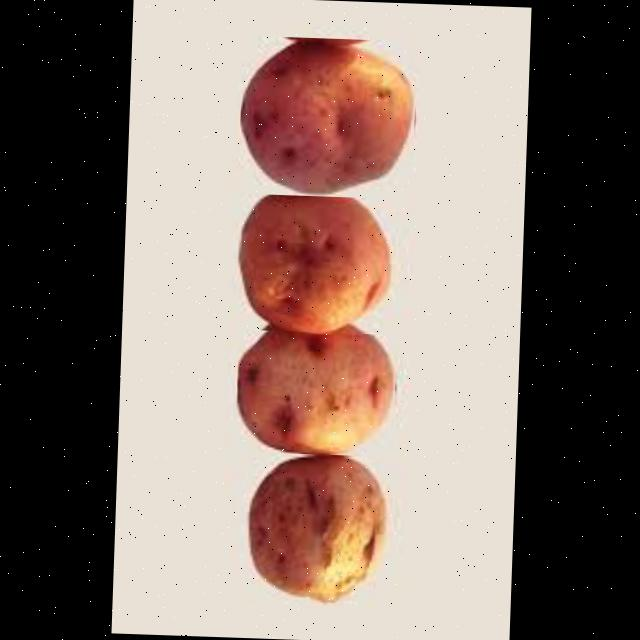Diseased-fungal potato: (237, 35, 416, 199), (234, 182, 398, 334), (233, 312, 396, 461), (242, 452, 391, 608)
